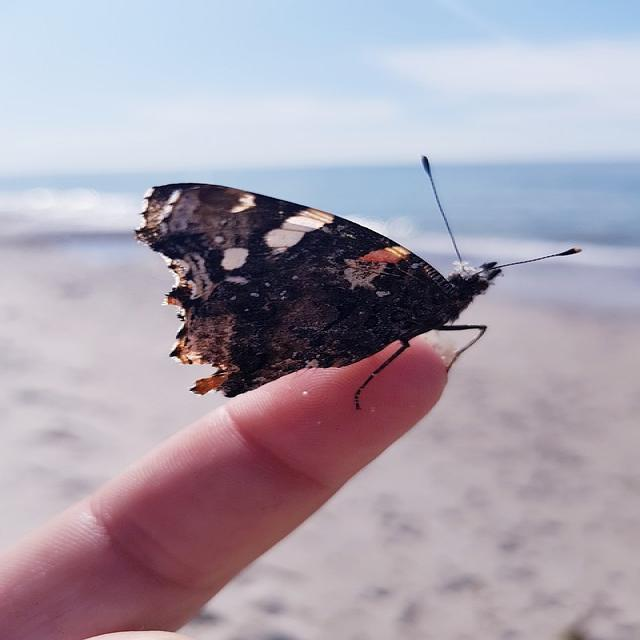butterfly: (133, 183, 507, 400)
